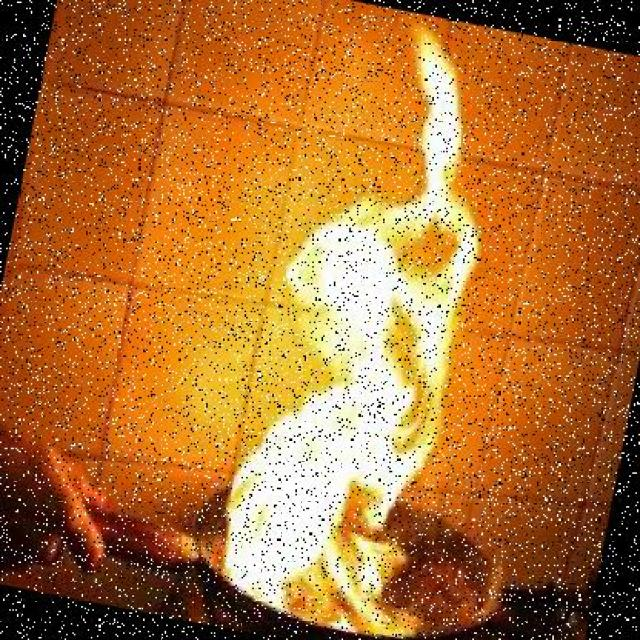fire: (200, 12, 551, 638)
